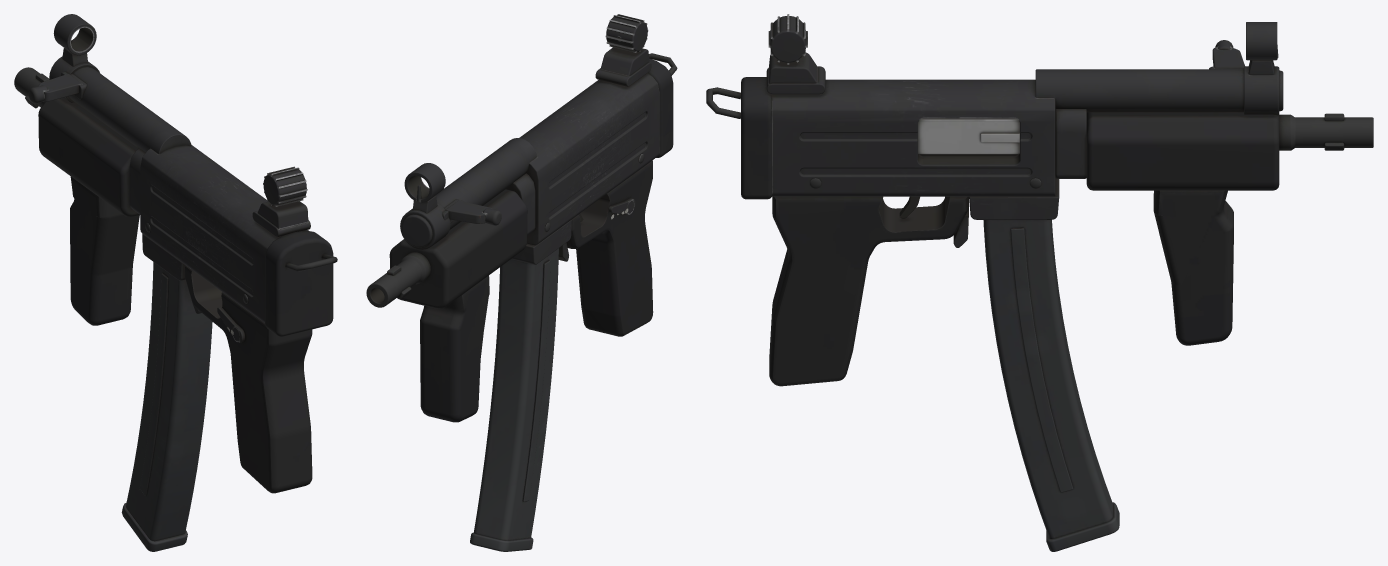
3 views of the same model, side by side, from view 1: azimuth 30°, elevation 25°; view 2: azimuth 150°, elevation 25°; view 3: azimuth 270°, elevation 25° (orthographic). The views are drawn at different scales.
Visible parts, largest first — view 1: body, magbody, charging; view 2: body, magbody, charging; view 3: body, magbody, bolt, charging.
Part boxes in pixels (left/top/right/bottom): body: left=14, top=14, right=337, bottom=493; magbody: left=121, top=262, right=212, bottom=551; charging: left=28, top=72, right=86, bottom=103; body: left=366, top=14, right=677, bottom=422; magbody: left=470, top=248, right=558, bottom=551; charging: left=442, top=199, right=501, bottom=225; body: left=706, top=14, right=1373, bottom=386; magbody: left=983, top=220, right=1119, bottom=551; bolt: left=918, top=118, right=1019, bottom=154; charging: left=1209, top=40, right=1244, bottom=69.
Bounding box in the file's own units: 0.0605 × 0.293 × 0.3397.
1 material, 1 textured.
